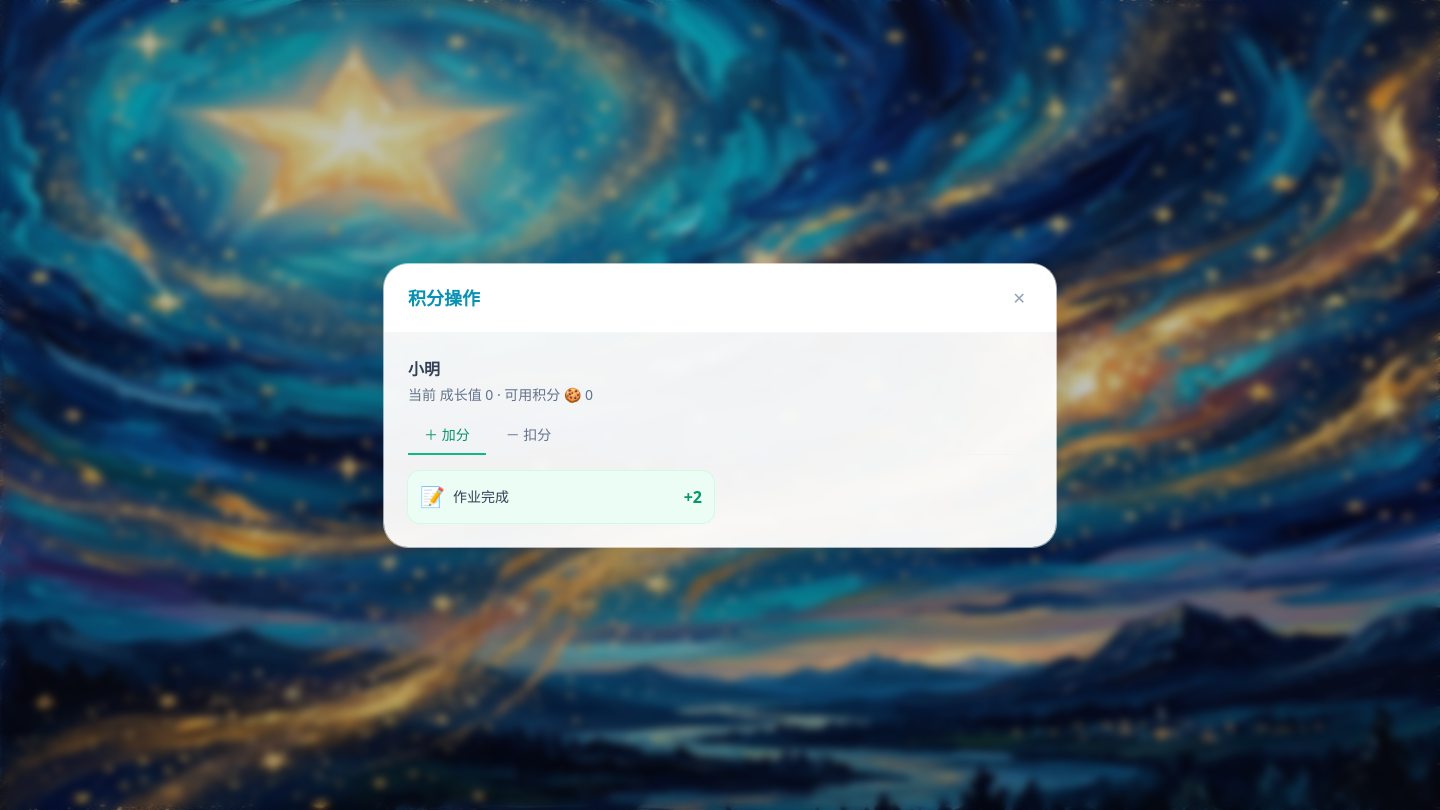
Test: PointsModal › 切到扣分标签显示减分项目
expect the text "作业完成" is shown: met, box [453,486,509,506]
What coordinates should you click on to do the following:
click the button "－ 扣分"
I would click on:
 (528, 436)
Its box is [490,416,567,454].
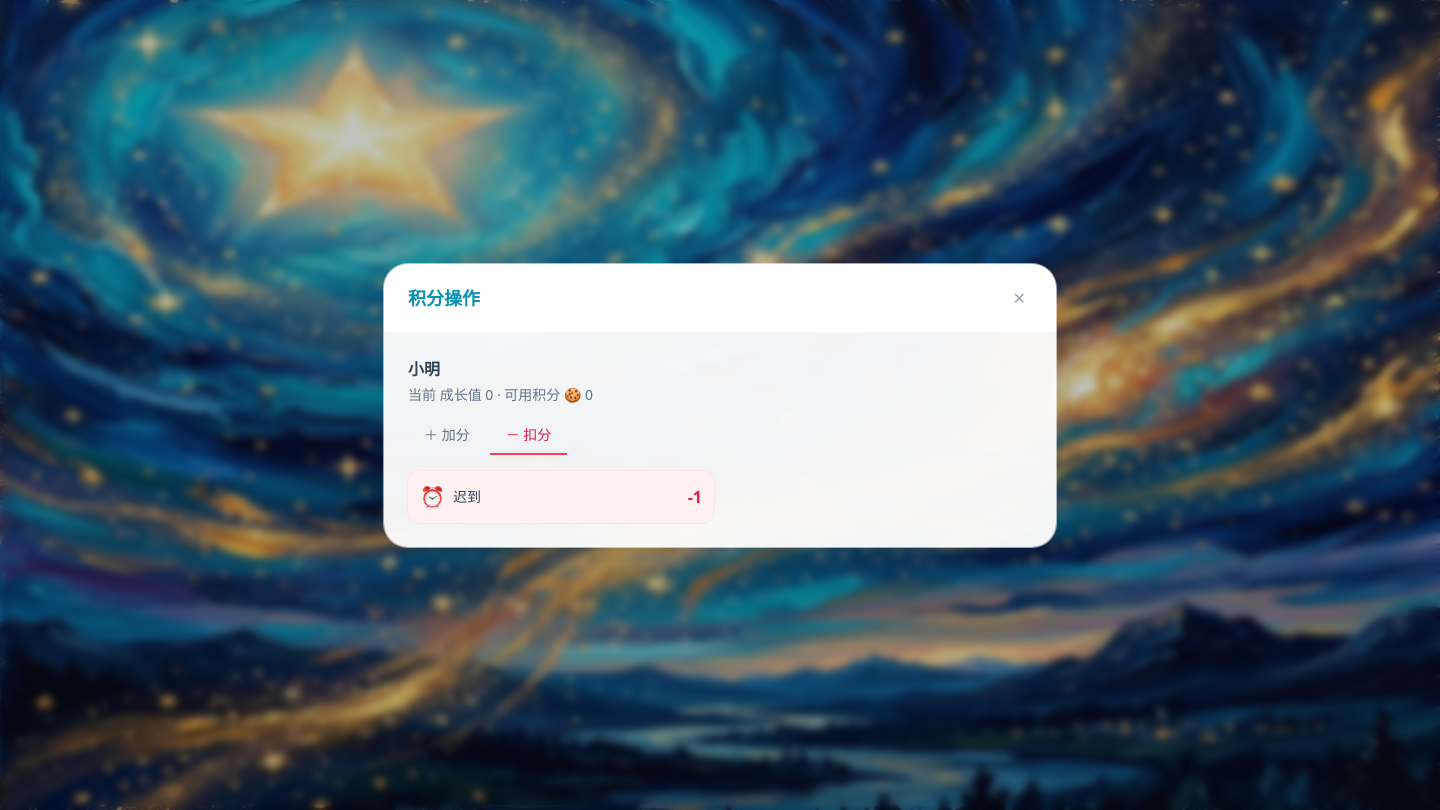
expect the text "迟到" is shown: met, box [453,486,481,506]
